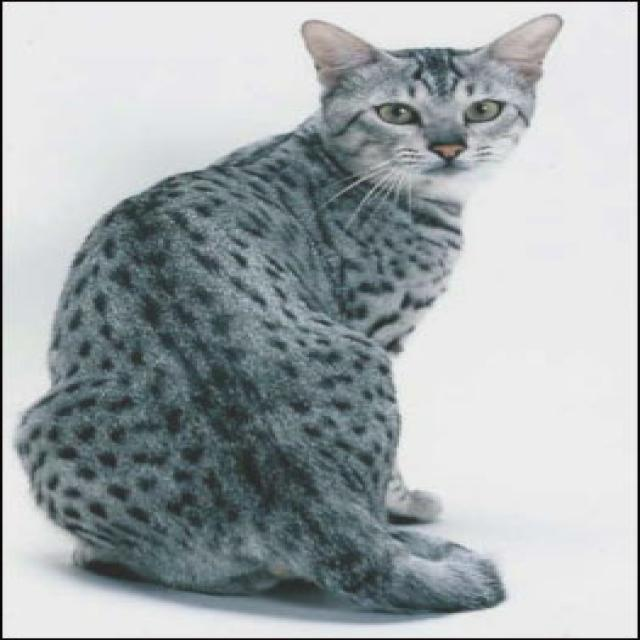Egyptian_Mau: (279, 6, 576, 187)
